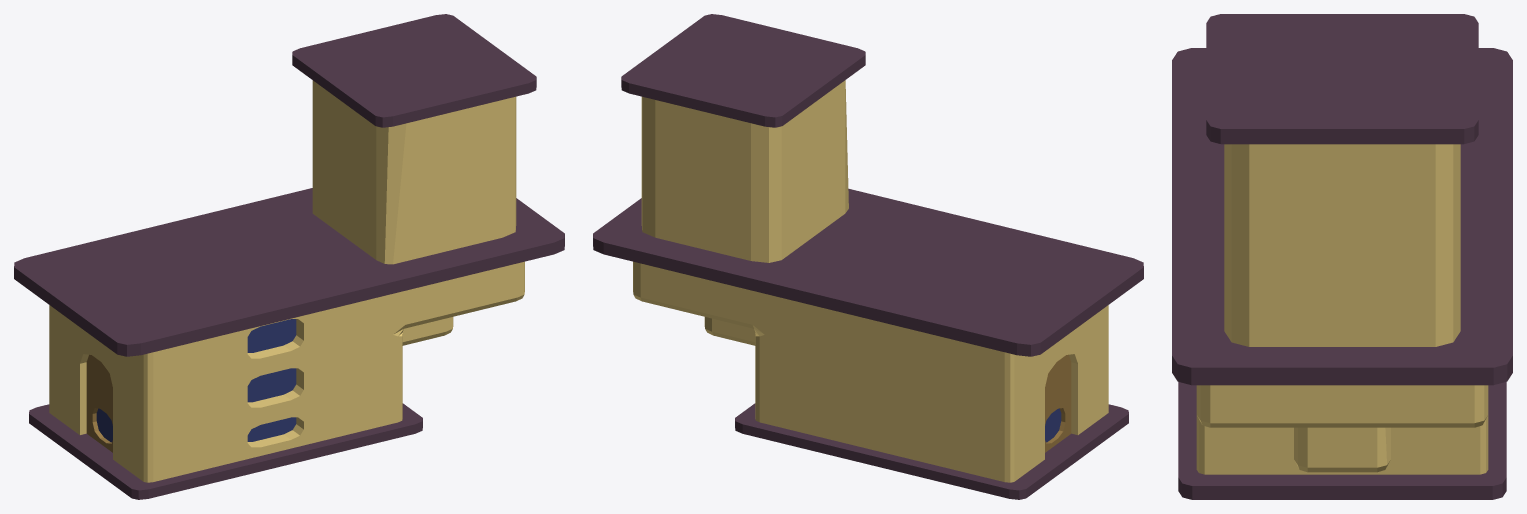
Rendered from RRMBuilding.fbx.
3 views of the same model, side by side, from view 1: azimuth 30°, elevation 25°; view 2: azimuth 150°, elevation 25°; view 3: azimuth 270°, elevation 25° (orthographic). The views are drawn at different scales.
Parts seen in each view (by area): view 1: FRRBuilding; view 2: FRRBuilding; view 3: FRRBuilding.
Part boxes in pixels (left/top/right/bottom): FRRBuilding: left=14, top=14, right=564, bottom=499; FRRBuilding: left=593, top=14, right=1143, bottom=499; FRRBuilding: left=1172, top=14, right=1512, bottom=499.
Bounding box in the file's own units: 7.78 × 5.21 × 3.5.
